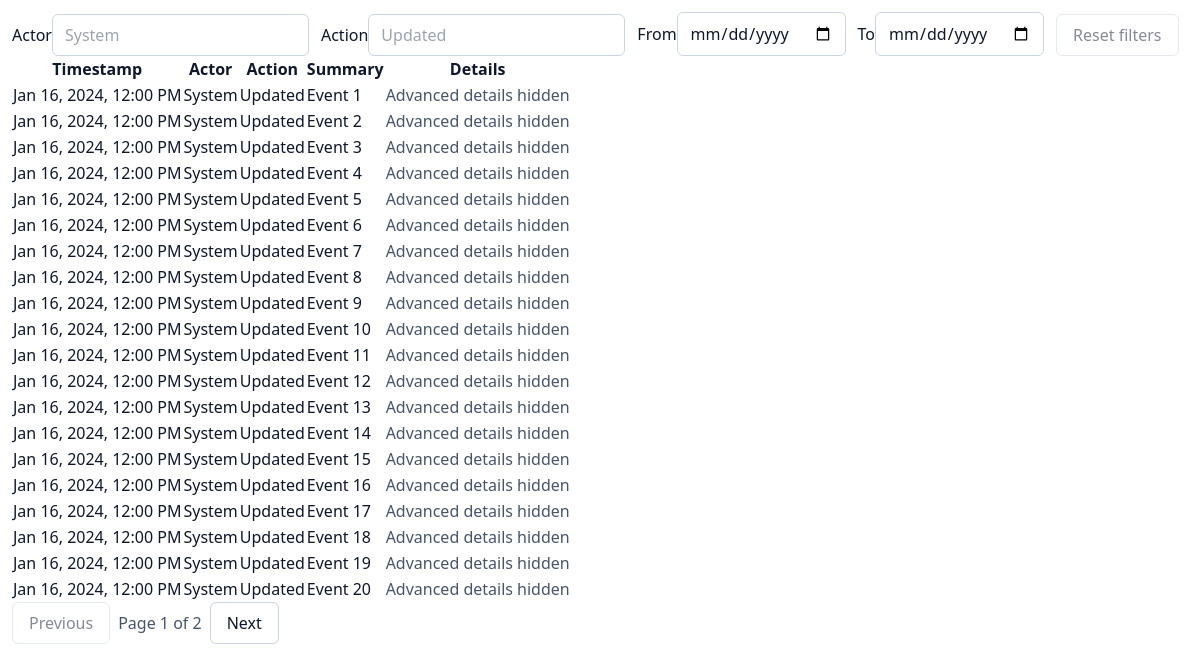
Scenario: AuditTimeline pagination cursors › pages forward and back while keeping filter state
Expected: the table with test id "activity-table" is shown, [12,56,571,602]
Expected: the text with test id "activity-page-info" reads "Page 1 of 2", [118,612,202,634]
Click the button with test id "activity-page-next" at [244, 623], box [210,602,279,644]
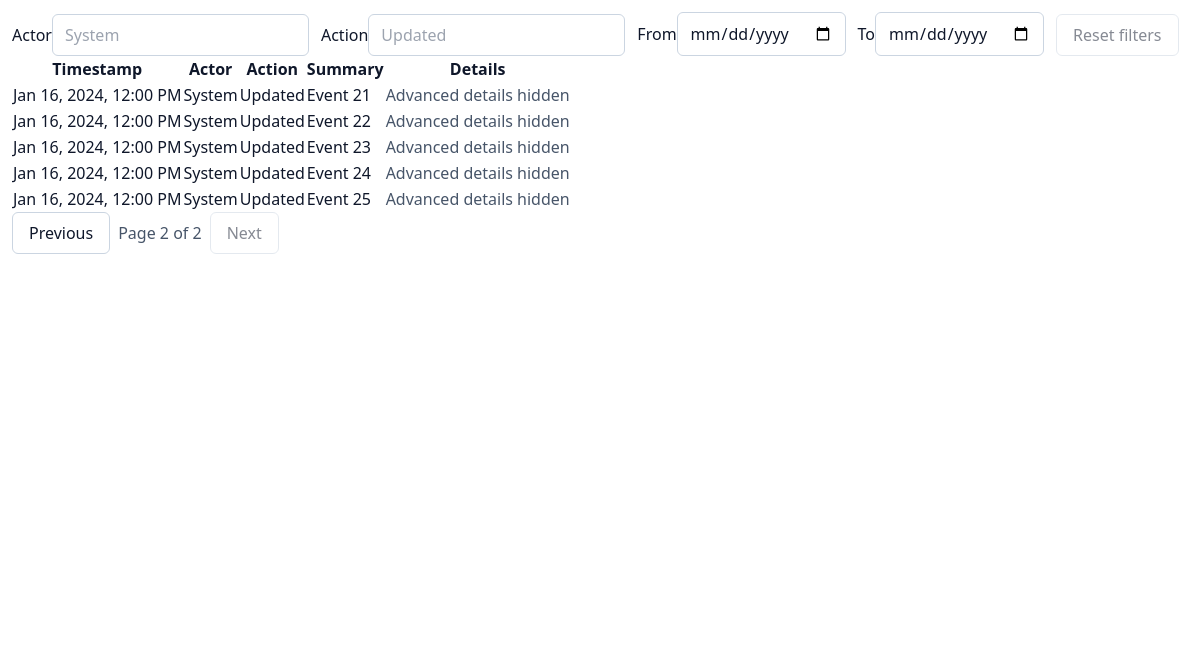
Expected: the text with test id "activity-page-info" reads "Page 2 of 2", [118,222,202,244]
Expected: the button with test id "activity-page-next" is disabled, [210,212,279,254]
Click the button with test id "activity-page-prev" at [61, 233], box [12,212,110,254]
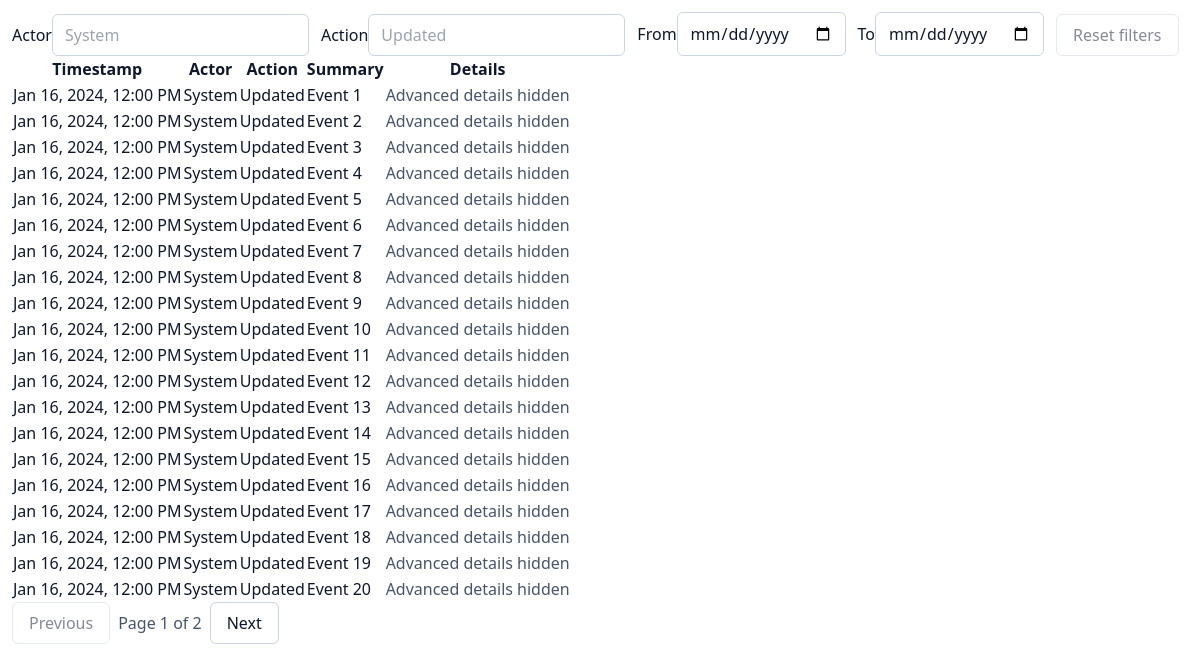
Expected: the text with test id "activity-page-info" reads "Page 1 of 2", [118,612,202,634]
